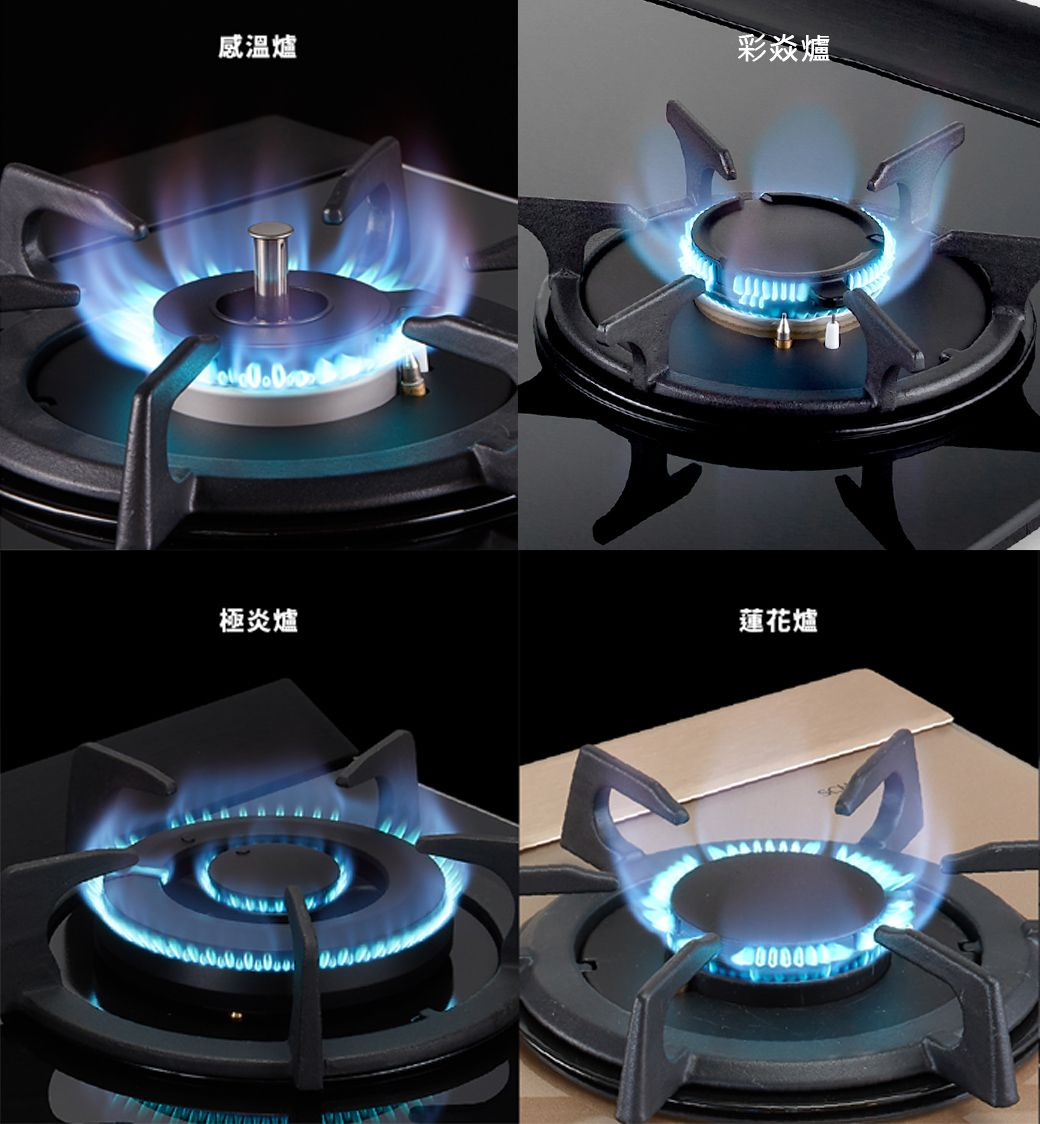gasoven: (4, 89, 519, 550), (517, 91, 1040, 542), (4, 671, 524, 1122), (519, 726, 1040, 1110)
